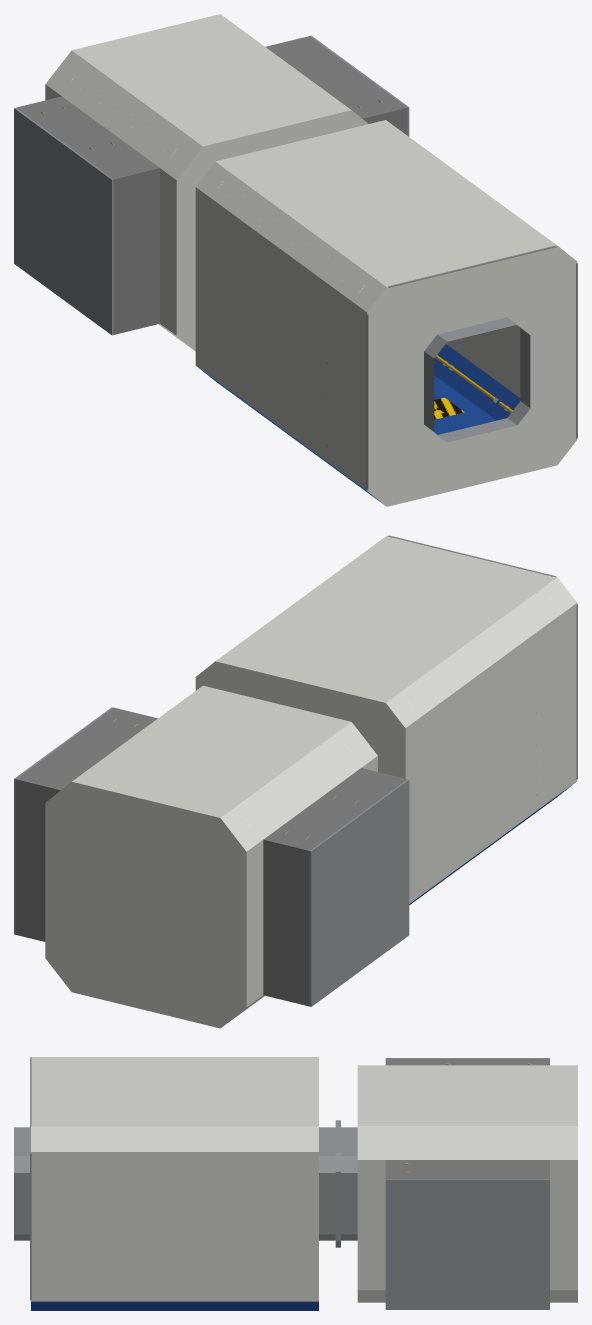
The model's file is Layout_Colonia_y_Carguero.fbx.
3 renders of one model, top to bottom at view 1: azimuth 30°, elevation 25°; view 2: azimuth 150°, elevation 25°; view 3: azimuth 270°, elevation 25°, orthographic. The views are drawn at different scales.
Parts seen in each view (by area): view 1: Casco_Colonia, Casco_Carguero, Bahia_B, Bahia_E; view 2: Casco_Colonia, Casco_Carguero, Bahia_B, Bahia_E; view 3: Casco_Colonia, Casco_Carguero, Bahia_E, Bahia_B, Anillo_Acople_Carguero.
Boxes of the visible parts, <box> form: Casco_Colonia: <box>195,120,577,506</box>; Casco_Carguero: <box>45,14,368,351</box>; Bahia_B: <box>14,96,159,335</box>; Bahia_E: <box>265,35,409,136</box>; Casco_Colonia: <box>195,535,577,904</box>; Casco_Carguero: <box>45,685,377,1028</box>; Bahia_B: <box>263,768,409,1006</box>; Bahia_E: <box>14,707,157,941</box>; Casco_Colonia: <box>14,1057,335,1310</box>; Casco_Carguero: <box>341,1065,577,1302</box>; Bahia_E: <box>385,1160,549,1309</box>; Bahia_B: <box>385,1058,549,1065</box>; Anillo_Acople_Carguero: <box>335,1120,340,1247</box>.
Size of the model in its own units: 3.4 by 2.4 by 6.66.
